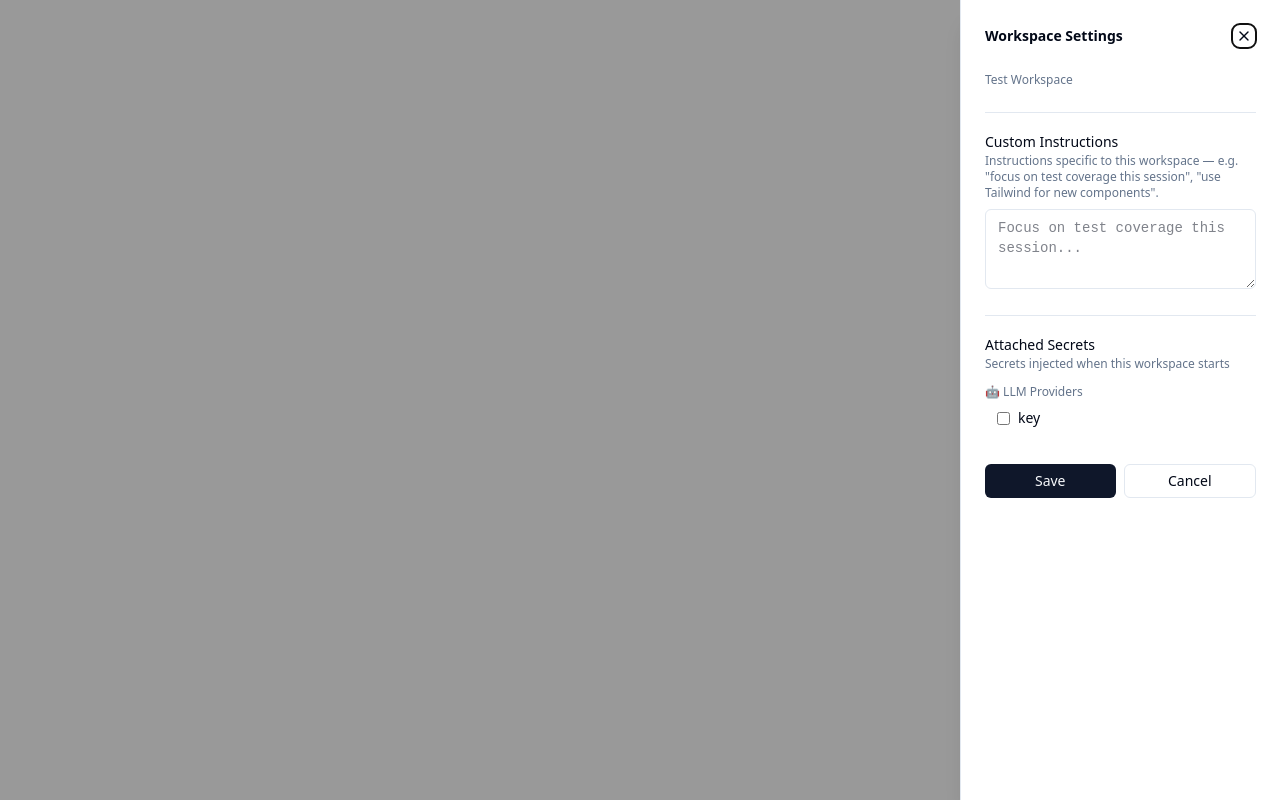
Test: WorkspaceSettingsDrawer › shows error when binding save fails
Expected: the text "key" is shown, [1018, 408, 1040, 428]
Click the checkbox labelled "key".
click(1004, 418)  # box [997, 412, 1010, 424]
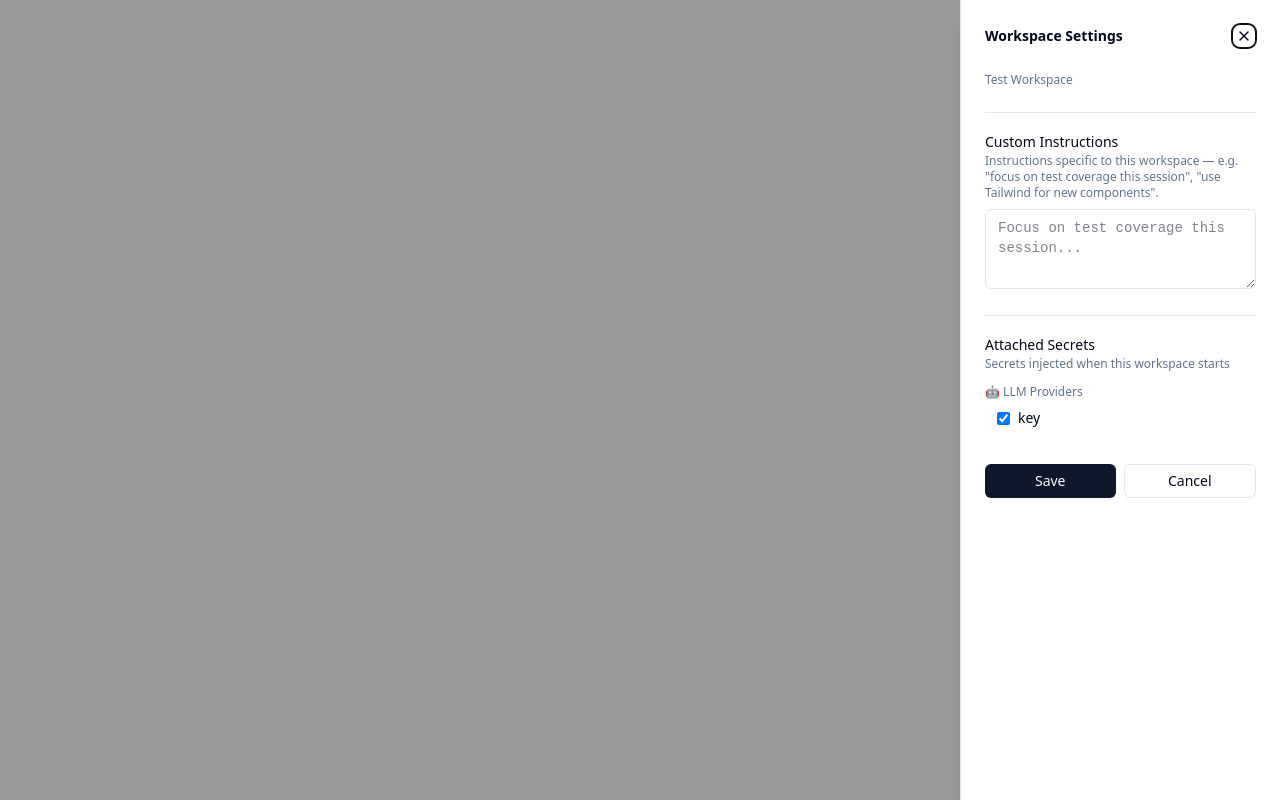
Click the button "Save".
click(1050, 481)  # box [985, 464, 1116, 498]
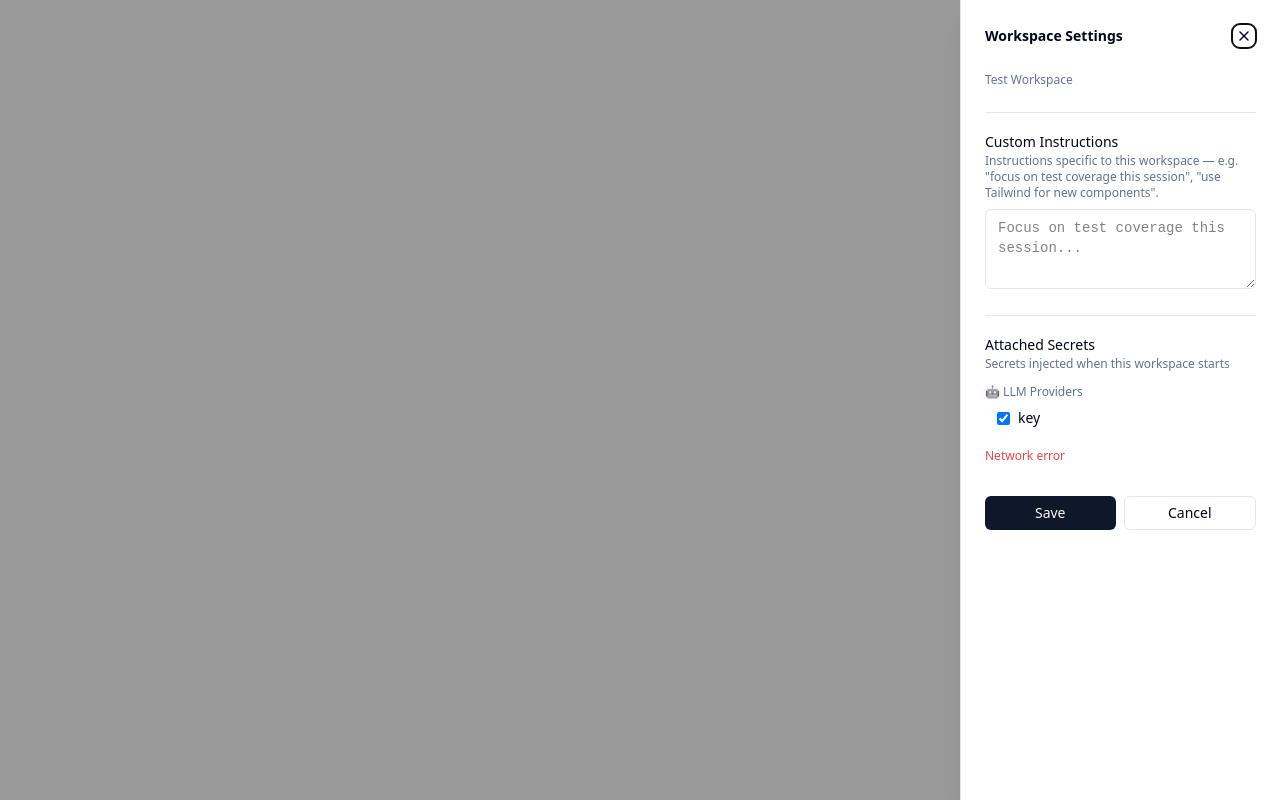
Expected: the text "Network error" is shown, [985, 447, 1065, 464]
